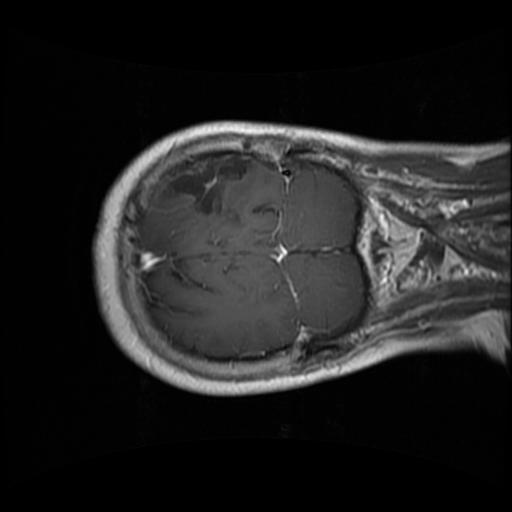glioma: (162, 160, 249, 216)
